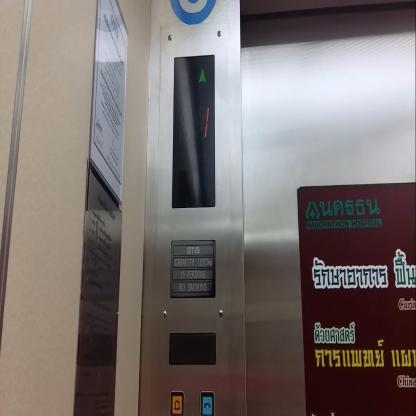alarm: (168, 388, 185, 416)
call: (199, 388, 215, 416)
led: (170, 52, 216, 211), (168, 328, 218, 366)
